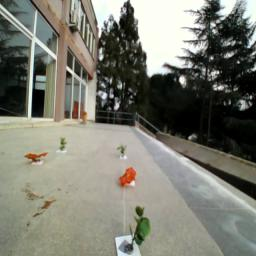herb: (129, 205, 153, 248), (118, 144, 129, 158), (59, 138, 69, 152)
wild: (120, 167, 138, 188), (24, 152, 50, 162)
